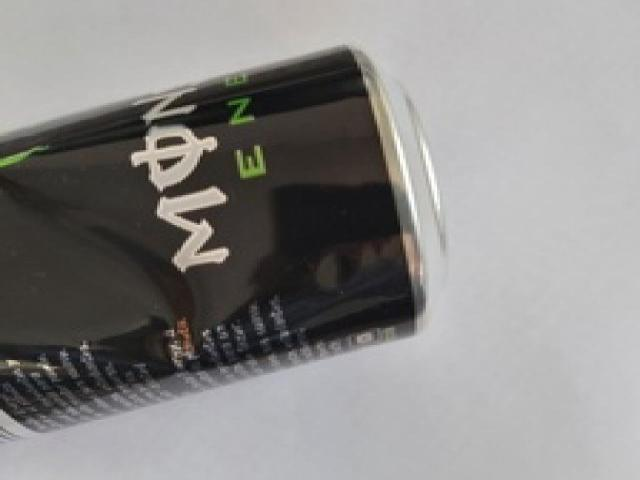Canned_drinks: (0, 46, 450, 438)
